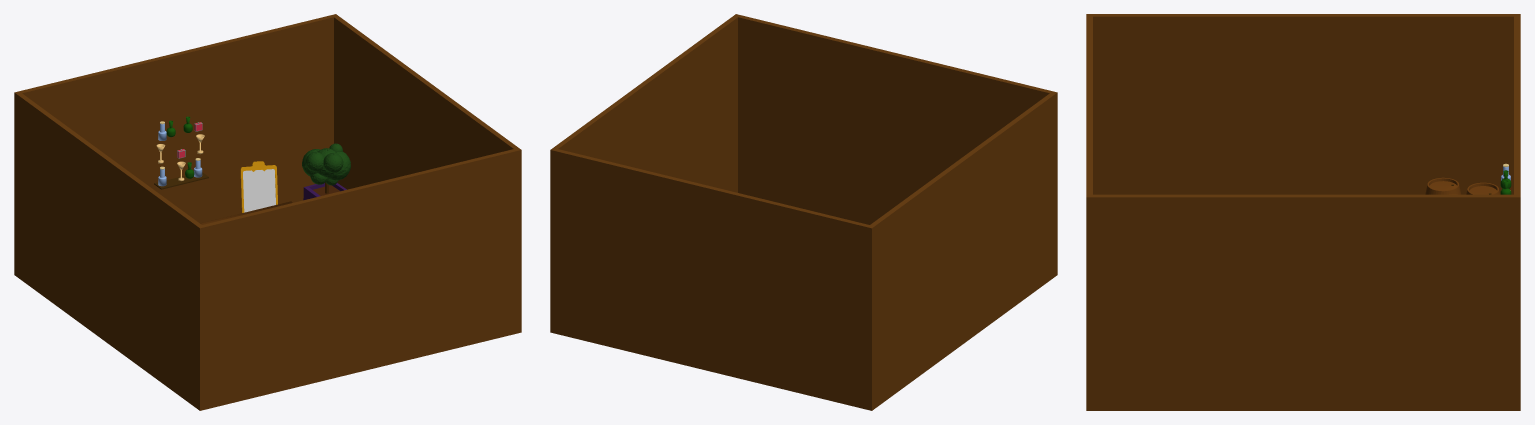
The model's file is ruum (1).glb.
The picture shows the model from 3 angles, left to right: view 1: azimuth 30°, elevation 25°; view 2: azimuth 150°, elevation 25°; view 3: azimuth 270°, elevation 25°; orthographic projection. The views are drawn at different scales.
Parts seen in each view (by area): view 1: base, mirror; view 2: base; view 3: base, barrel_2.
Part boxes in pixels (<box>): base: <box>14,14,521,410</box>; mirror: <box>240,161,277,212</box>; base: <box>550,14,1057,410</box>; base: <box>1086,14,1520,410</box>; barrel_2: <box>1425,177,1461,194</box>.
Size of the model in its own units: 8 by 4.34 by 8.
